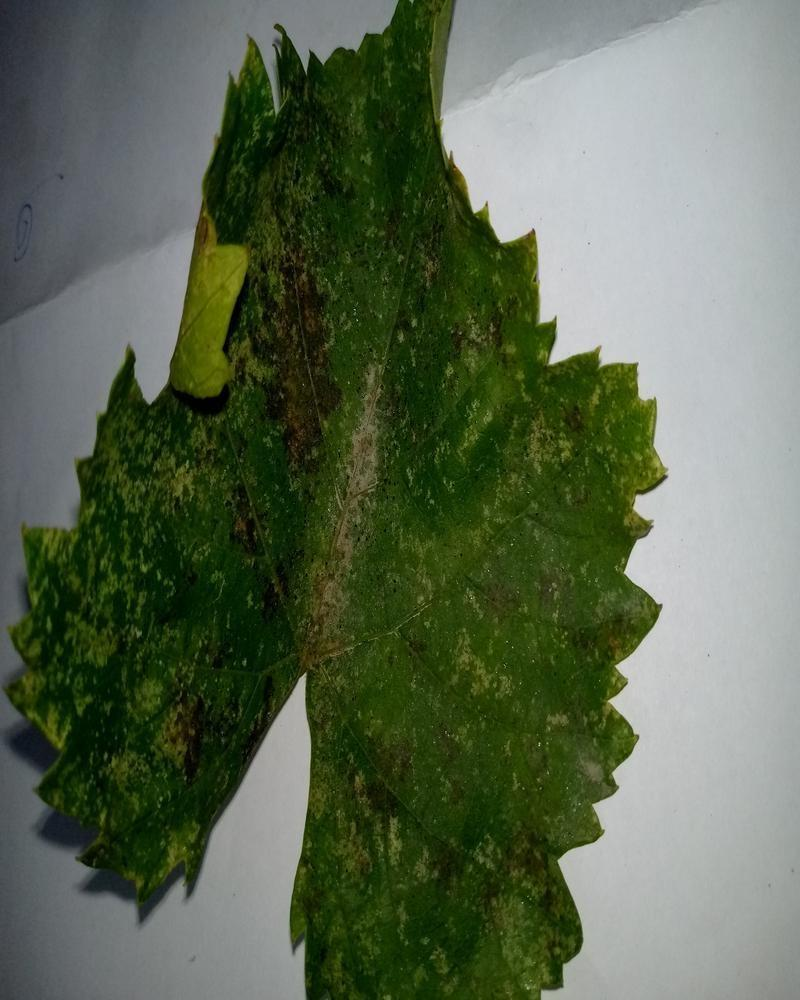Powdery-Mildew: (296, 346, 409, 668), (524, 413, 587, 476), (131, 439, 194, 502), (452, 639, 515, 702), (35, 690, 98, 753)
